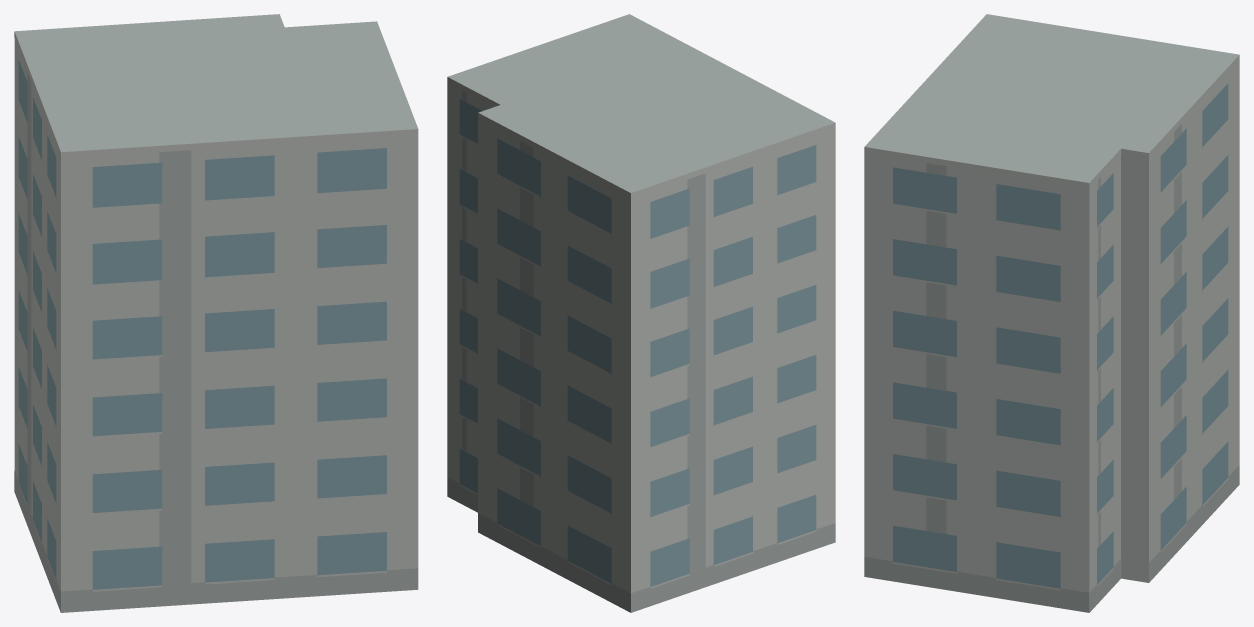
Rendered from survey-upis-33036593.glb.
3 renders of one model, left to right at view 1: azimuth 30°, elevation 25°; view 2: azimuth 150°, elevation 25°; view 3: azimuth 270°, elevation 25°, orthographic. The views are drawn at different scales.
Parts seen in each view (by area): view 1: survey-upis-33036593.tmp; view 2: survey-upis-33036593.tmp; view 3: survey-upis-33036593.tmp.
Boxes of the visible parts, box(x1,y1,x2,y2) form: survey-upis-33036593.tmp: box(14, 14, 418, 612); survey-upis-33036593.tmp: box(447, 14, 835, 612); survey-upis-33036593.tmp: box(864, 14, 1239, 612).
Bounding box in the file's own units: 14.68 × 17.4 × 13.78.
